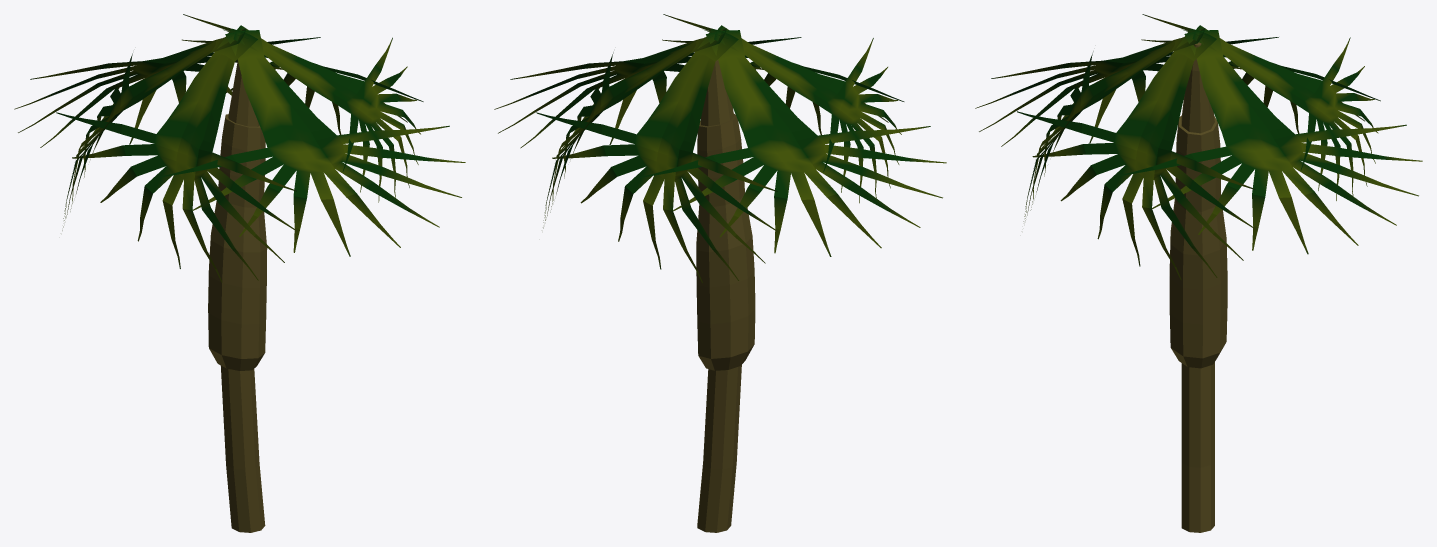
The model's file is palmera.glb.
3 views of the same model, side by side, from view 1: azimuth 30°, elevation 25°; view 2: azimuth 150°, elevation 25°; view 3: azimuth 270°, elevation 25° (orthographic).
Visible parts, largest first — view 1: palmera_just_plant, palmera_wood; view 2: palmera_just_plant, palmera_wood; view 3: palmera_just_plant, palmera_wood.
Part boxes in pixels (left/top/right/bottom): palmera_just_plant: left=14, top=14, right=465, bottom=282; palmera_wood: left=208, top=60, right=267, bottom=532; palmera_just_plant: left=494, top=14, right=946, bottom=282; palmera_wood: left=696, top=60, right=755, bottom=532; palmera_just_plant: left=975, top=14, right=1422, bottom=279; palmera_wood: left=1169, top=42, right=1227, bottom=532.
Bounding box in the file's own units: 6.58 × 7.77 × 6.44.
